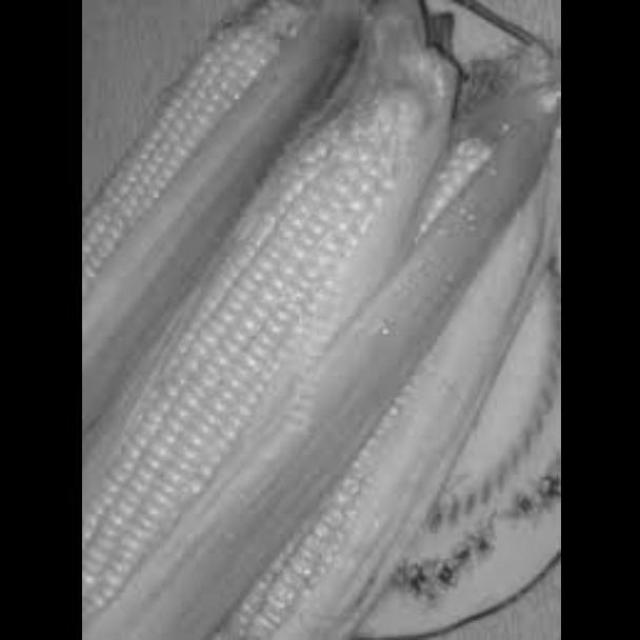cereal: (80, 45, 455, 639), (233, 120, 554, 640), (80, 0, 343, 442)
